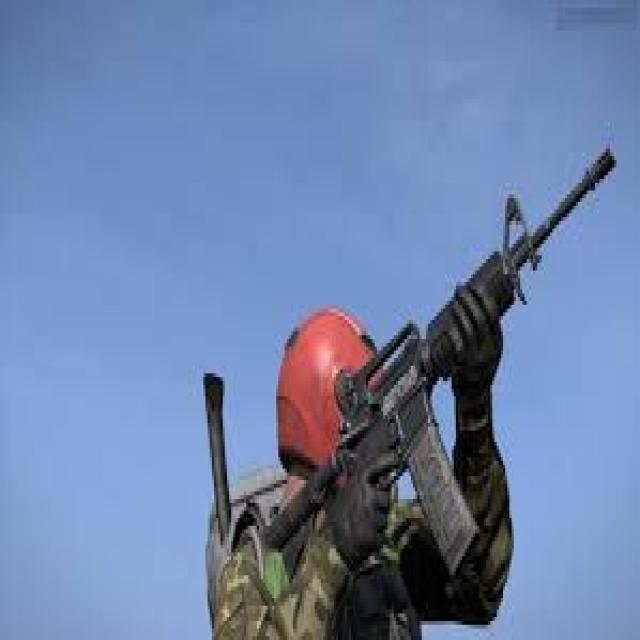weapon: (264, 143, 620, 592)
